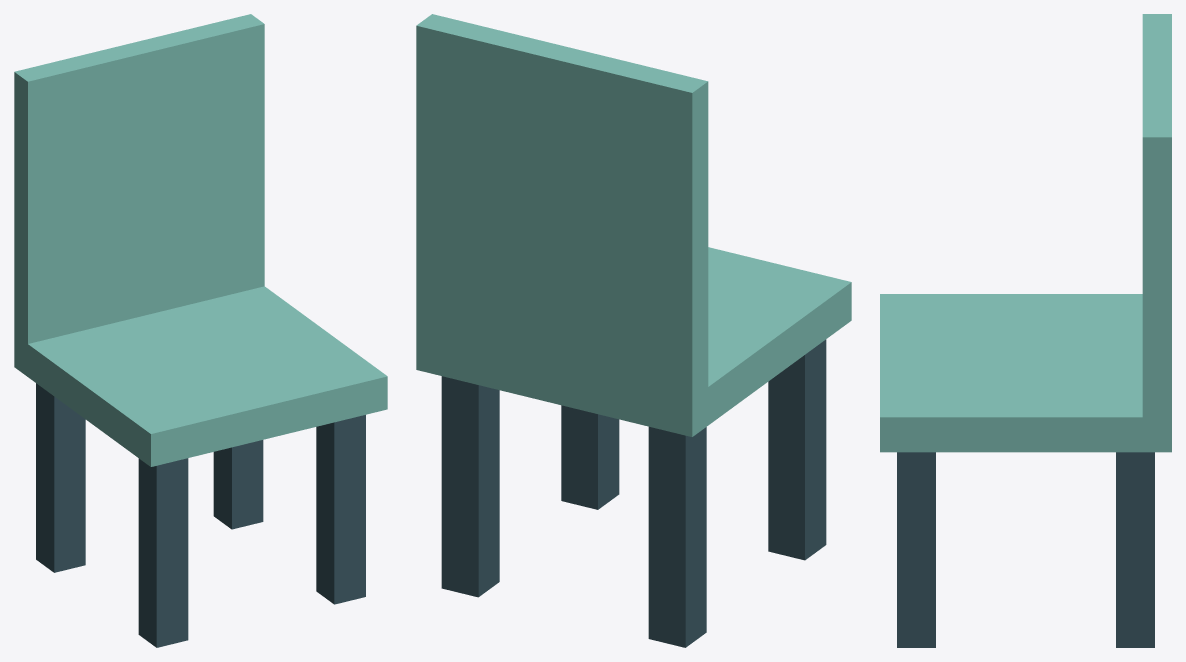
Rendered from cafeChair.obj.
The picture shows the model from 3 angles, left to right: view 1: azimuth 30°, elevation 25°; view 2: azimuth 150°, elevation 25°; view 3: azimuth 270°, elevation 25°; orthographic projection. The views are drawn at different scales.
Visible parts, largest first — view 1: cafeChair; view 2: cafeChair; view 3: cafeChair.
Boxes of the visible parts, left/top/right/bottom form: cafeChair: left=14, top=14, right=387, bottom=647; cafeChair: left=416, top=14, right=851, bottom=647; cafeChair: left=880, top=14, right=1171, bottom=647.
Size of the model in its own units: 0.6 by 1.17 by 0.6.
